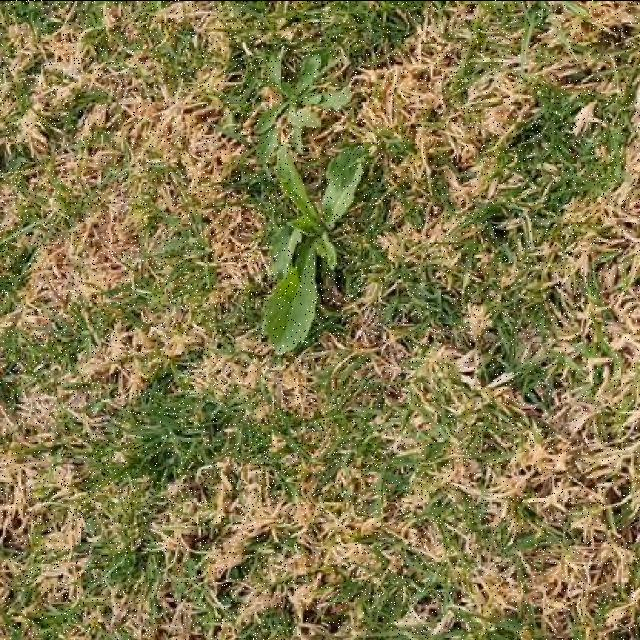weed: (258, 48, 365, 354)
